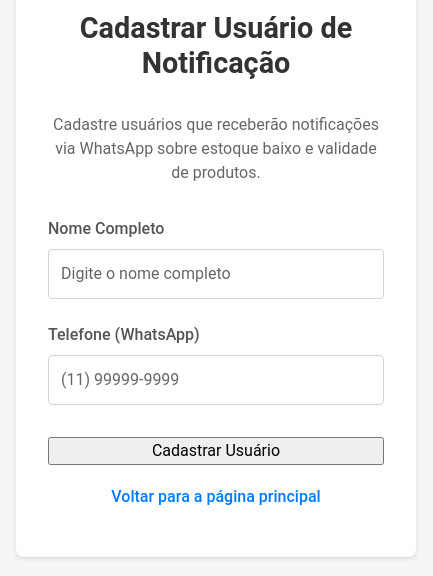
Test case: NotificationUserRegister › deve cadastrar usuário com sucesso
Type "João Silva" into the field labelled "Nome Completo".
click(216, 274); type("João Silva")  # box [48, 248, 384, 298]
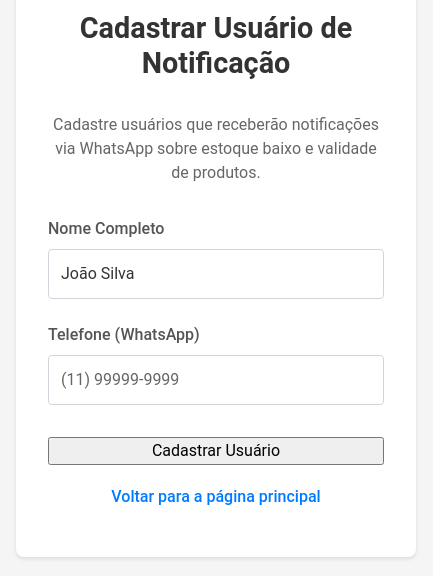
Type "11999999999" into the field labelled "Telefone (WhatsApp)".
click(216, 380); type("11999999999")  # box [48, 354, 384, 404]
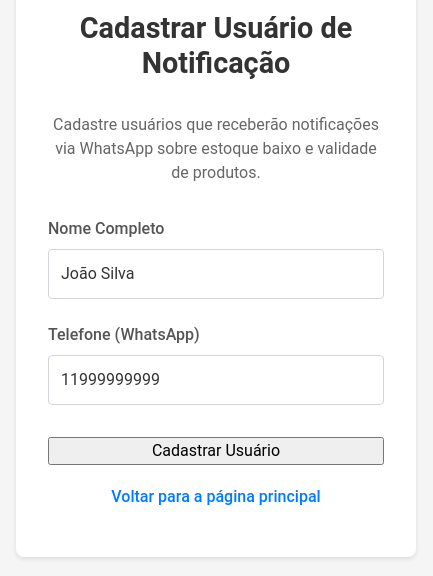
Click the button "Cadastrar Usuário".
click(216, 450)  # box [48, 436, 384, 464]
Wait 2000 ms
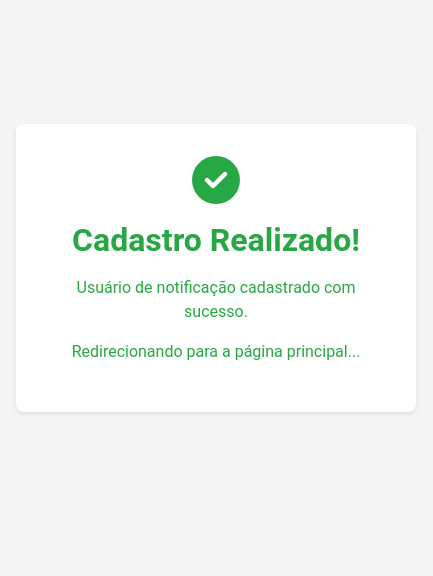
Expected: the heading "Cadastro Realizado!" is shown, [48, 221, 384, 260]
